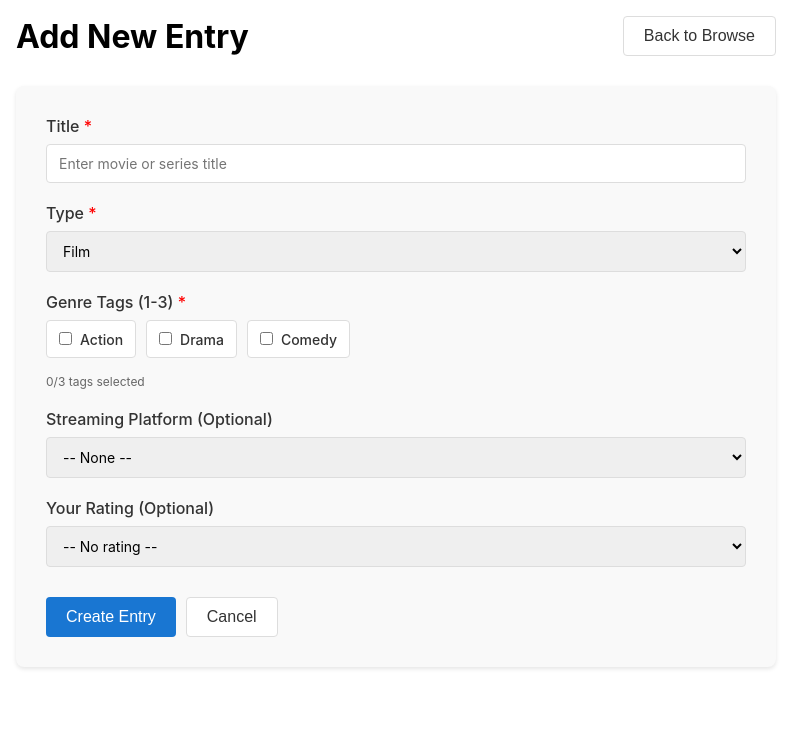
Add Entry Flow - Integration Test › should validate minimum tags requirement
The width and height of the screenshot is (793, 748).
Expected: the checkbox labelled "Action" is shown, [59,332,72,345]
// Fill only title, no tags
Type "No Tags Movie" into the field labelled "Title *" at [396, 164], box [46,144,746,183]
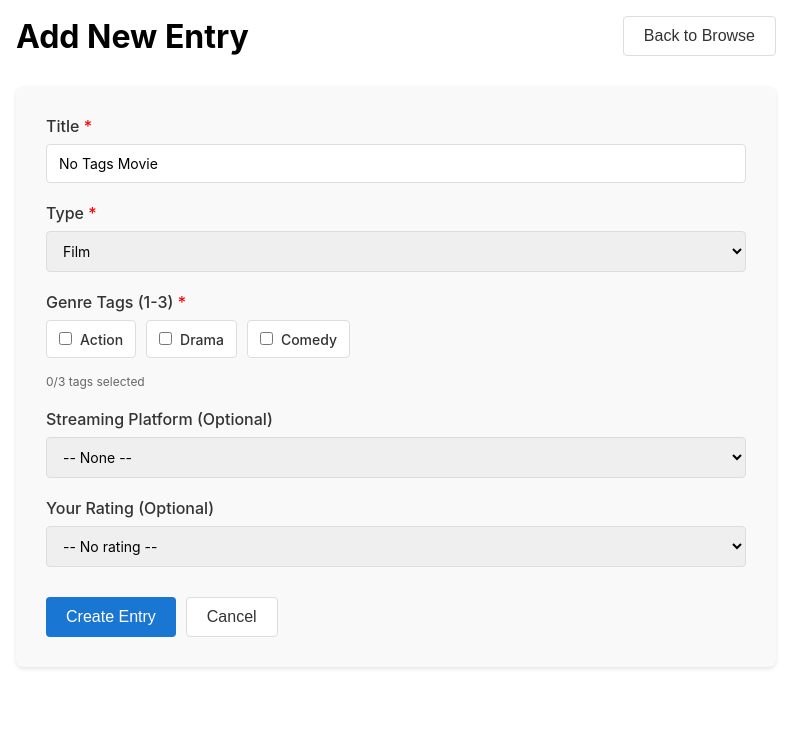
// Submit form
Click the button "Create Entry" at [111, 617], box [46,597,176,637]
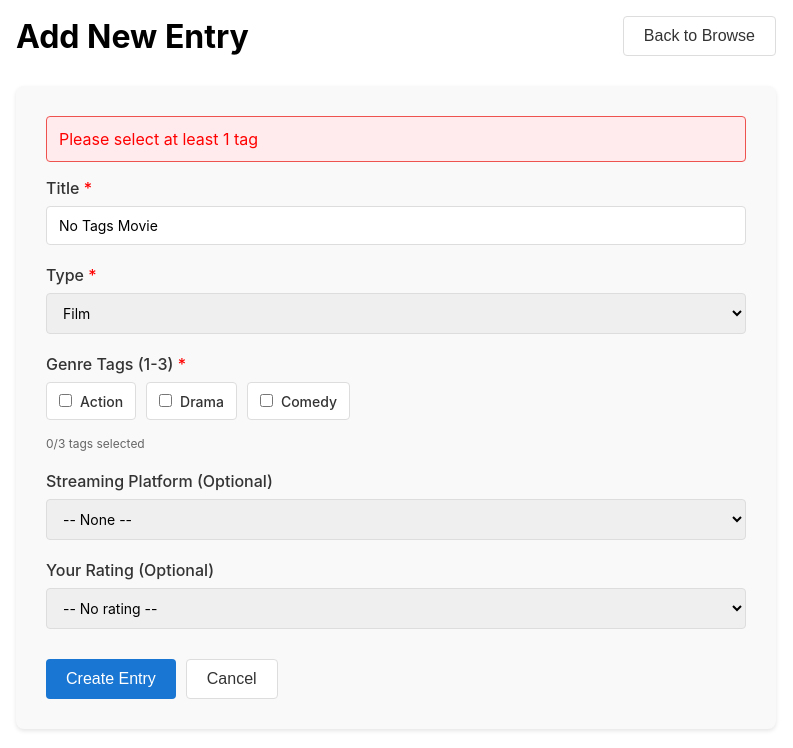
Now the text "Please select at least 1 tag" is shown, box [46,116,746,162]
